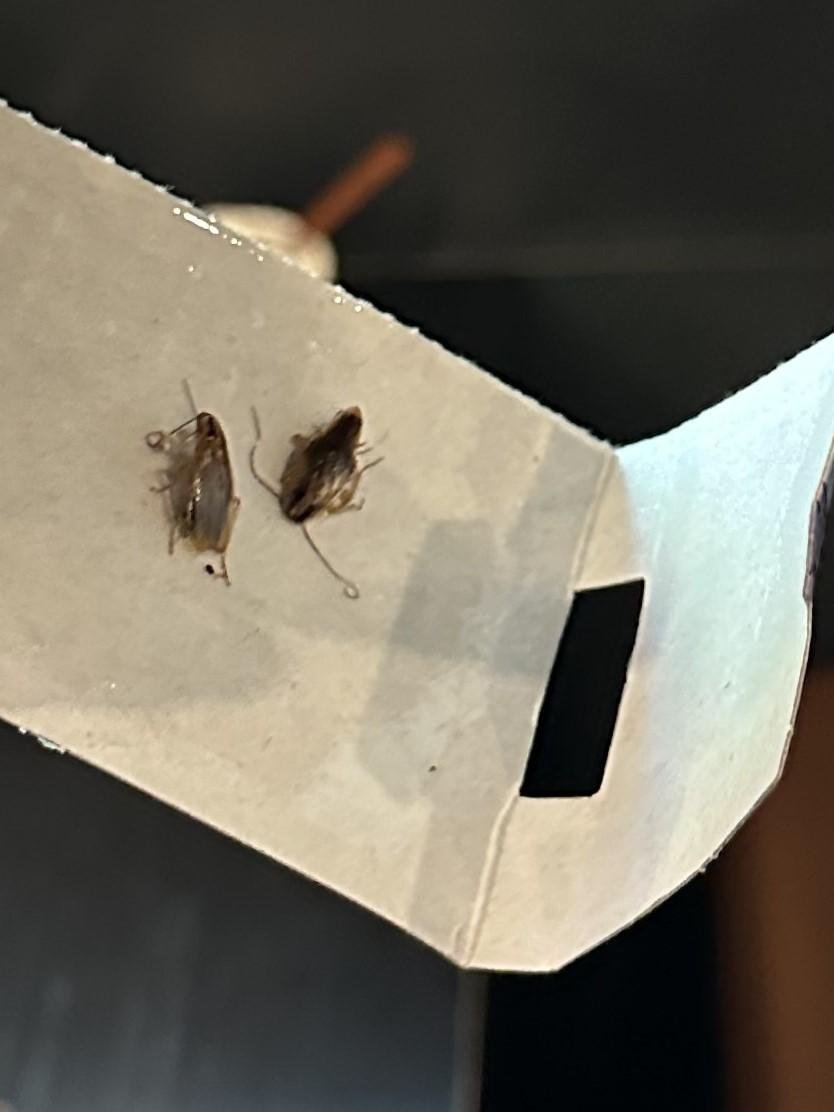cockroach: (100, 381, 271, 613), (250, 363, 395, 621)
